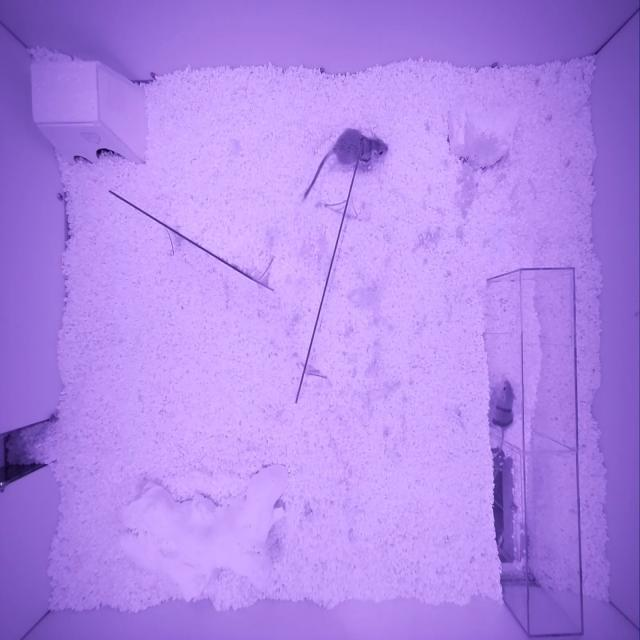adult_front: (333, 128, 389, 167)
pup_h_stripe: (493, 380, 518, 427)
